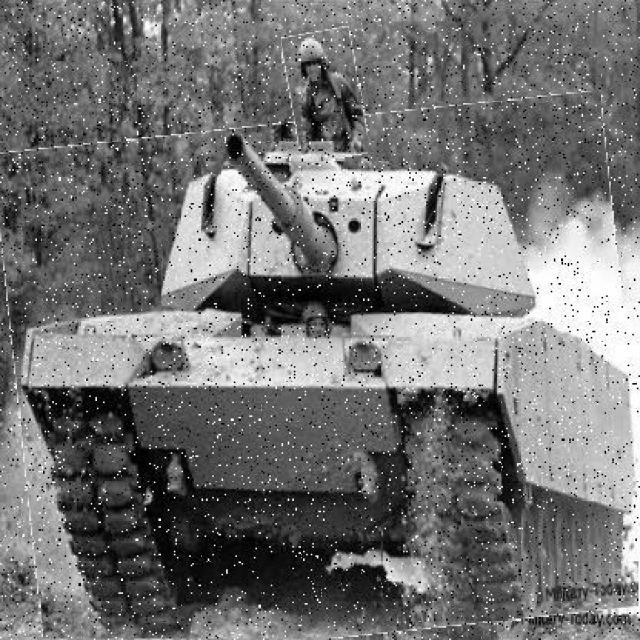Person: (287, 30, 366, 161)
Tank: (6, 107, 640, 640)
